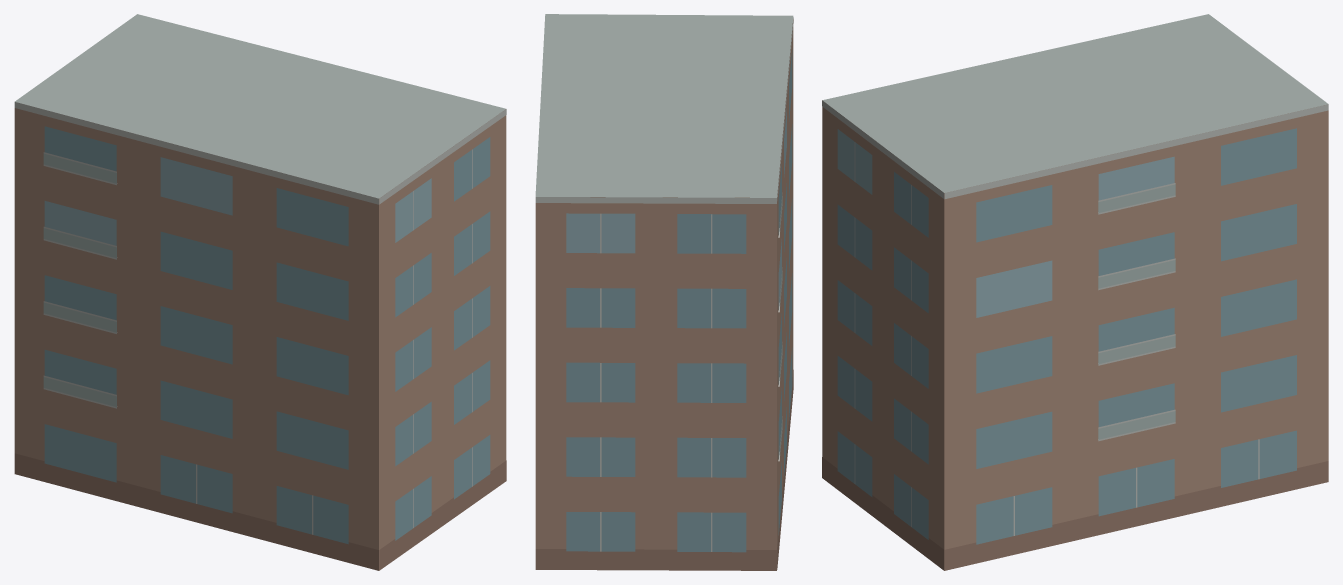
File: survey-upis-32655925.glb
3 renders of one model, left to right at view 1: azimuth 30°, elevation 25°; view 2: azimuth 150°, elevation 25°; view 3: azimuth 270°, elevation 25°, orthographic.
Parts seen in each view (by area): view 1: survey-upis-32655925.tmp; view 2: survey-upis-32655925.tmp; view 3: survey-upis-32655925.tmp.
Part boxes in pixels (x1,y1,x2,y2): survey-upis-32655925.tmp: (14,14,506,570); survey-upis-32655925.tmp: (535,14,793,570); survey-upis-32655925.tmp: (822,14,1328,570).
Bounding box in the file's own units: 14.95 × 14.7 × 17.87.
